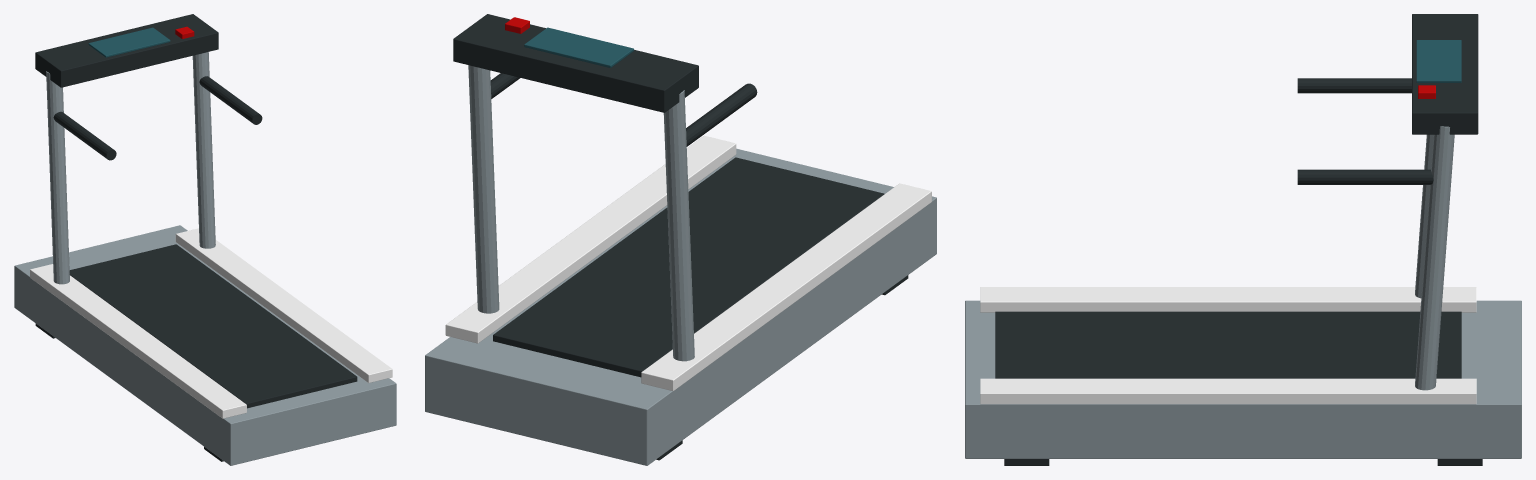
File: gym-treadmill.glb
3 views of the same model, side by side, from view 1: azimuth 30°, elevation 25°; view 2: azimuth 150°, elevation 25°; view 3: azimuth 270°, elevation 25° (orthographic). The views are drawn at different scales.
Visible parts, largest first — view 1: Base, Belt, Side_Rail.001, Side_Rail, Console, Upright, Upright.001, Screen, Handrail, Handrail.001; view 2: Base, Belt, Side_Rail, Console, Side_Rail.001, Upright, Upright.001, Screen, Handrail; view 3: Base, Belt, Side_Rail.001, Side_Rail, Console, Upright.001, Handrail.001, Screen, Handrail, Upright.
Boxes of the visible parts, <box> form: Base: <box>14,225,396,465</box>; Belt: <box>69,244,357,408</box>; Side_Rail.001: <box>175,228,392,382</box>; Side_Rail: <box>30,264,246,418</box>; Console: <box>35,14,218,87</box>; Upright: <box>46,71,69,284</box>; Upright.001: <box>192,52,215,248</box>; Screen: <box>88,27,170,57</box>; Handrail: <box>53,111,116,160</box>; Handrail.001: <box>199,76,262,124</box>; Base: <box>425,148,936,465</box>; Belt: <box>493,157,884,377</box>; Side_Rail: <box>641,183,931,391</box>; Console: <box>453,14,698,112</box>; Side_Rail.001: <box>445,135,736,343</box>; Upright: <box>663,90,694,361</box>; Upright.001: <box>468,65,499,313</box>; Screen: <box>524,27,633,67</box>; Handrail: <box>686,83,757,146</box>; Base: <box>965,300,1521,458</box>; Belt: <box>995,311,1461,378</box>; Side_Rail.001: <box>980,378,1476,404</box>; Side_Rail: <box>980,287,1476,312</box>; Console: <box>1412,14,1478,134</box>; Upright.001: <box>1415,126,1454,390</box>; Handrail.001: <box>1297,169,1433,184</box>; Screen: <box>1416,40,1461,82</box>; Handrail: <box>1297,78,1411,93</box>; Upright: <box>1415,134,1433,298</box>.
Size of the model in its own units: 0.84 by 1.32 by 1.85.
